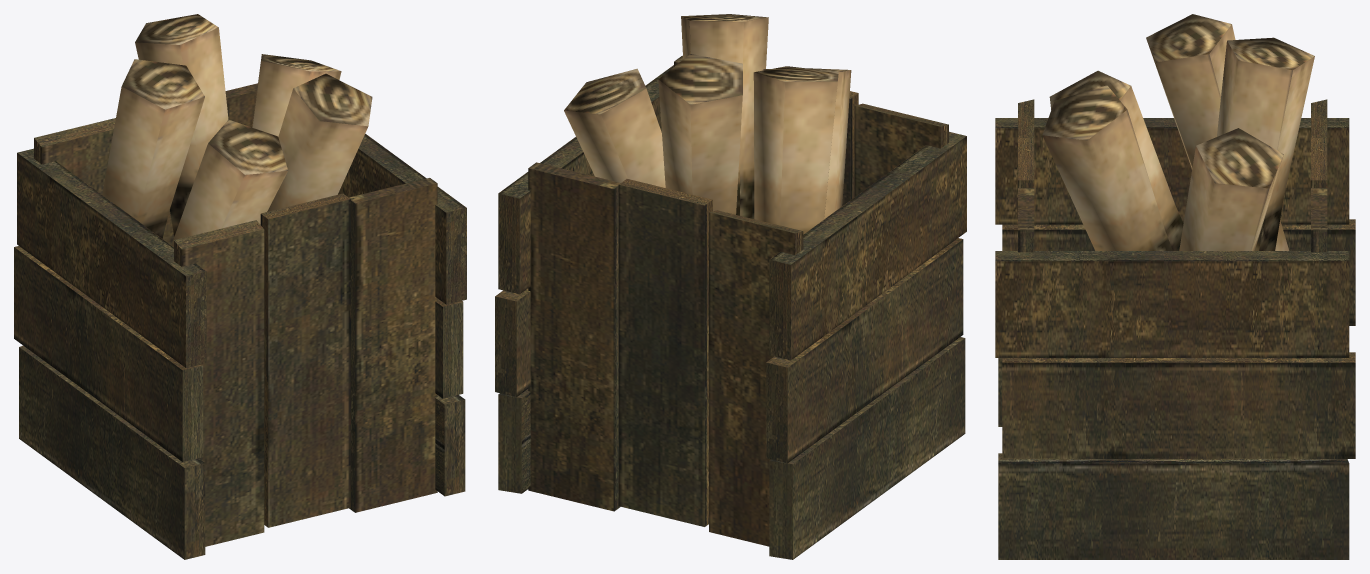
The picture shows the model from 3 angles, left to right: view 1: azimuth 30°, elevation 25°; view 2: azimuth 150°, elevation 25°; view 3: azimuth 270°, elevation 25°; orthographic projection. The views are drawn at different scales.
Visible parts, largest first — view 1: box04; view 2: box04; view 3: box04.
Part boxes in pixels (box(x1,y1,x2,y2)): box04: box(14, 14, 466, 559); box04: box(495, 14, 966, 559); box04: box(995, 14, 1355, 559).
Size of the model in its own units: 0.4891 by 0.692 by 0.5186.
